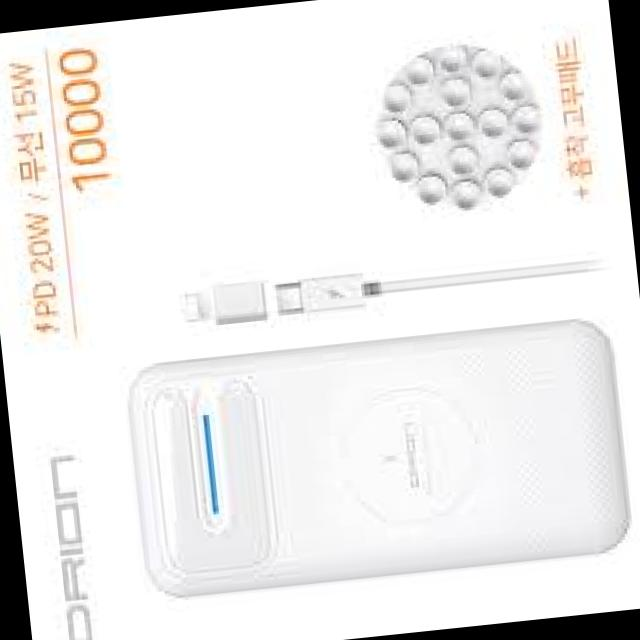power_bank: (116, 308, 640, 603)
